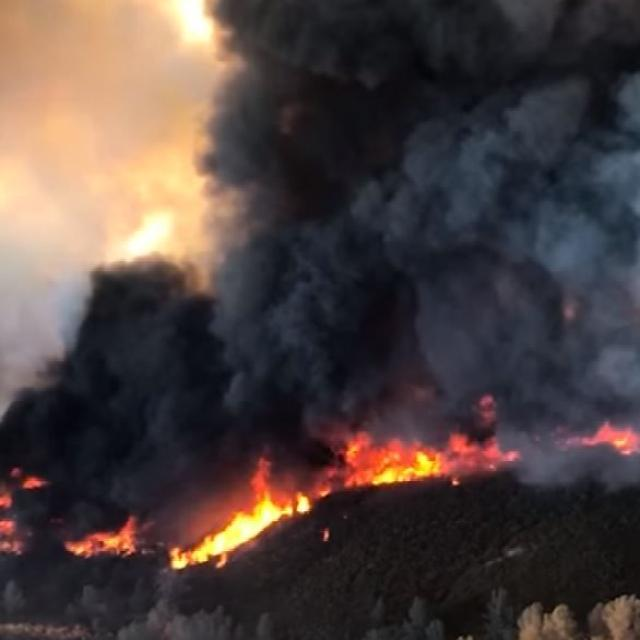Fire: (162, 477, 309, 580), (337, 432, 484, 502), (58, 514, 154, 566), (574, 419, 640, 460), (0, 492, 21, 566), (12, 464, 46, 494)
Smoke: (28, 6, 640, 536)
